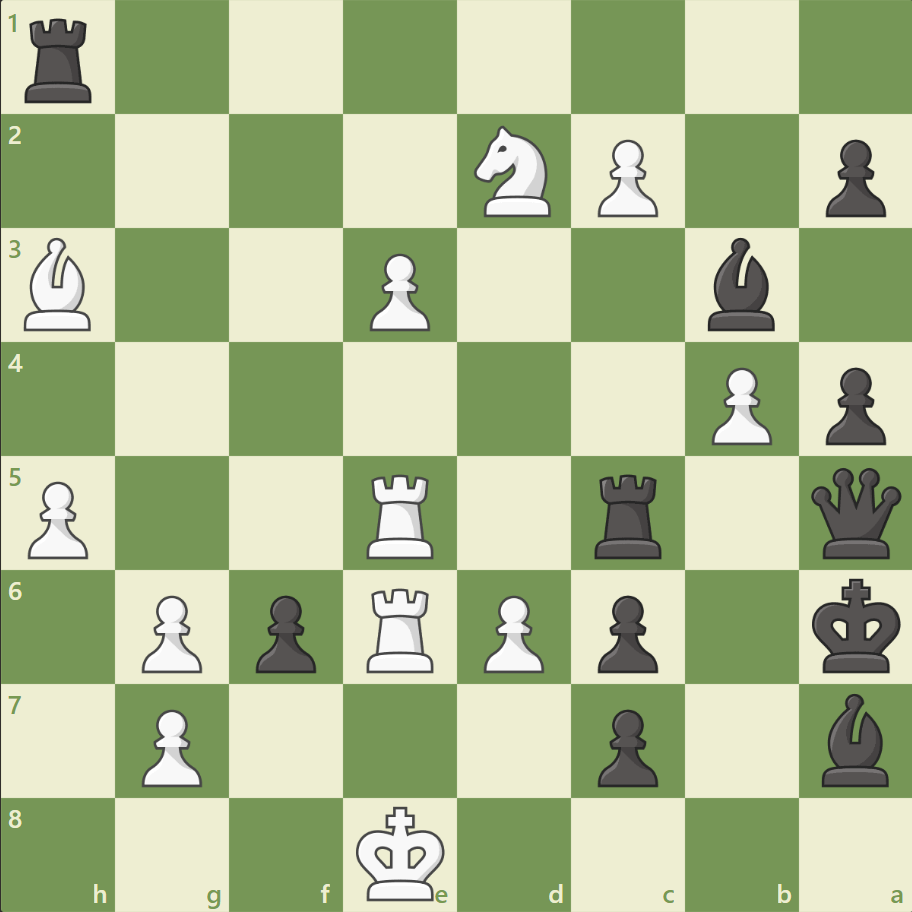B: (17, 233, 101, 336)
K: (351, 798, 451, 906)
N: (465, 121, 562, 223)
P: (133, 700, 208, 791), (474, 586, 549, 677), (133, 586, 208, 677), (20, 473, 95, 564), (701, 359, 776, 450), (361, 246, 435, 337), (588, 132, 662, 223)
R: (360, 579, 442, 676), (360, 466, 442, 563)
b: (812, 687, 896, 790), (698, 233, 782, 336)
k: (806, 571, 906, 679)
p: (247, 586, 322, 677), (588, 700, 662, 791), (588, 586, 662, 677), (815, 359, 889, 450), (815, 132, 889, 223)
q: (805, 463, 904, 562)
r: (587, 466, 670, 563), (19, 12, 102, 109)
